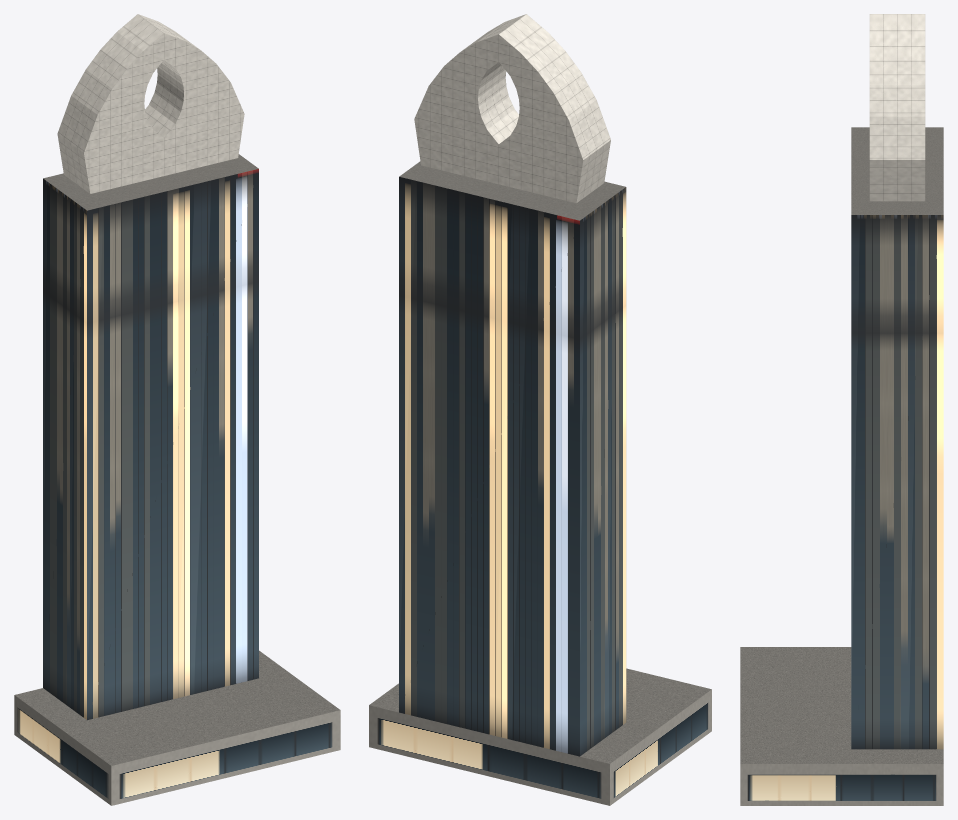
Rendered from CO_EdificioColtejer_8x6_LOD2.fbx.
The picture shows the model from 3 angles, left to right: view 1: azimuth 30°, elevation 25°; view 2: azimuth 150°, elevation 25°; view 3: azimuth 270°, elevation 25°; orthographic projection. The views are drawn at different scales.
Parts seen in each view (by area): view 1: CO_EdificioColtejer_8x6_LOD2; view 2: CO_EdificioColtejer_8x6_LOD2; view 3: CO_EdificioColtejer_8x6_LOD2.
Boxes of the visible parts, x1=… form: CO_EdificioColtejer_8x6_LOD2: x1=14, y1=14, x2=340, y2=805; CO_EdificioColtejer_8x6_LOD2: x1=369, y1=14, x2=711, y2=805; CO_EdificioColtejer_8x6_LOD2: x1=740, y1=14, x2=943, y2=805.
Bounding box in the file's own units: 60 × 175 × 44.
Materials: 1 (1 with a texture image).
